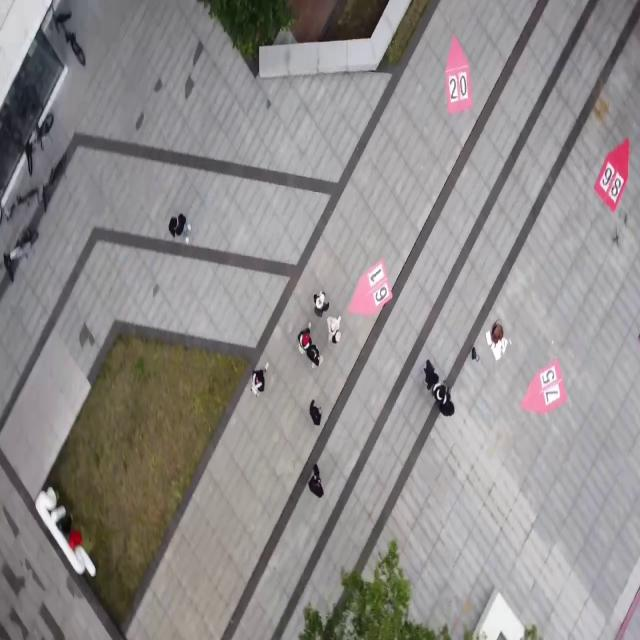-sign-: (519, 347, 575, 423), (589, 127, 634, 220), (343, 253, 395, 326), (442, 26, 480, 117)
